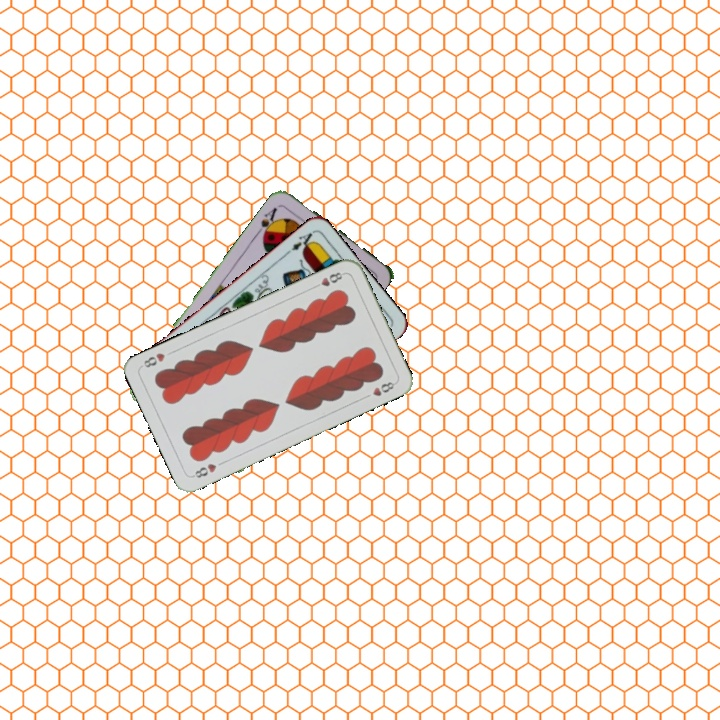EA: (281, 227, 317, 258)
H8: (309, 268, 347, 291), (188, 459, 219, 481)
SA: (252, 203, 280, 241)
